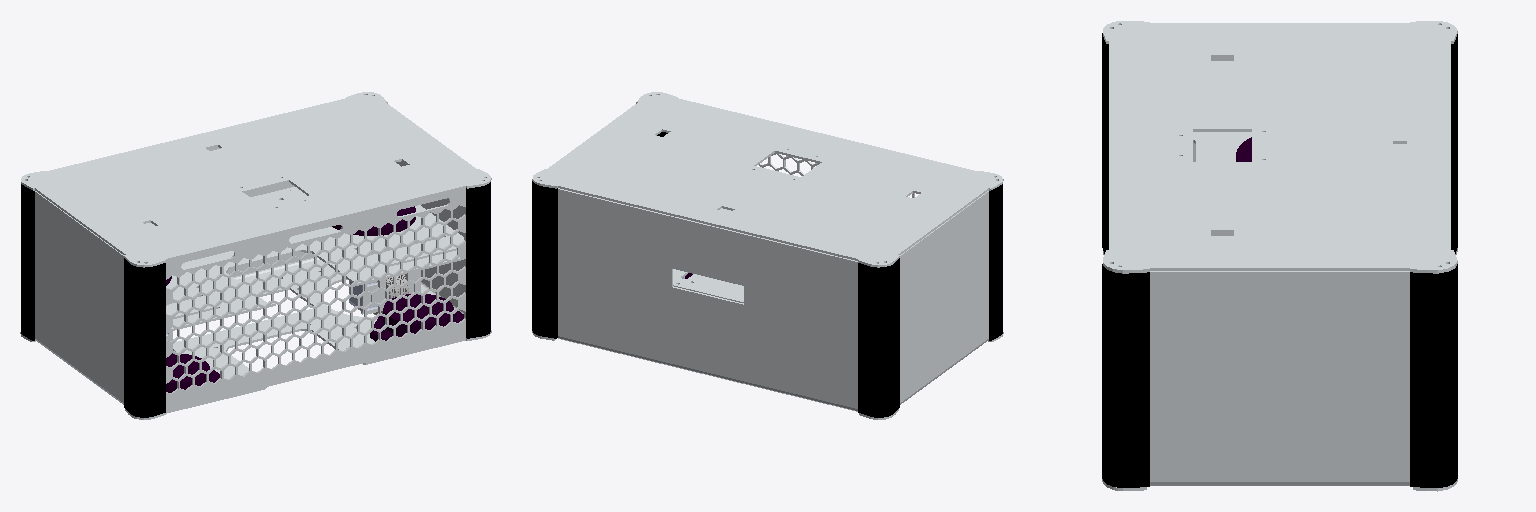
--- Facts derived from the render (not from the file) ---
Views: 3 orthographic renders of the robot side by side, from view 1: azimuth 30°, elevation 25°; view 2: azimuth 150°, elevation 25°; view 3: azimuth 270°, elevation 25°.
Robot: urdf — 29 links, 28 joints (4 revolute, 4 continuous, 20 fixed); root link base_link; default pose: every joint at zero.
Visible links, largest first — view 1: top_plate_link, back_plate_link, base_link, mid_plate_link, fixor_back_left_link, fixor_back_right_link, fixor_top_left_link, caster_wheel_right_chassis_link, caster_wheel_left_chassis_link, motor_chasiss_right_link, dunno_right_link; view 2: base_link, top_plate_link, fixor_top_left_link, fixor_top_right_link, fixor_back_left_link, mid_plate_link; view 3: top_plate_link, base_link, fixor_back_right_link, fixor_top_right_link, mid_plate_link, fixor_back_left_link, fixor_top_left_link.
Boxes of the visible links, x1,y1,x2,y2 form: top_plate_link: (21, 92, 491, 267); back_plate_link: (166, 188, 465, 410); base_link: (20, 147, 491, 419); mid_plate_link: (146, 187, 463, 331); fixor_back_left_link: (124, 258, 165, 417); fixor_back_right_link: (466, 182, 490, 338); fixor_top_left_link: (21, 184, 34, 340); caster_wheel_right_chassis_link: (370, 294, 463, 341); caster_wheel_left_chassis_link: (166, 353, 219, 392); motor_chasiss_right_link: (362, 270, 420, 314); dunno_right_link: (332, 206, 415, 235); base_link: (532, 188, 1003, 419); top_plate_link: (532, 92, 1003, 267); fixor_top_left_link: (858, 258, 899, 417); fixor_top_right_link: (532, 181, 557, 338); fixor_back_left_link: (989, 184, 1002, 340); mid_plate_link: (673, 208, 743, 302); top_plate_link: (1103, 21, 1457, 273); base_link: (1102, 58, 1457, 491); fixor_back_right_link: (1102, 264, 1149, 487); fixor_top_right_link: (1410, 264, 1457, 487); mid_plate_link: (1193, 132, 1406, 161); fixor_back_left_link: (1102, 33, 1108, 253); fixor_top_left_link: (1451, 34, 1457, 253).
Size in the robot's own frame: 0.5 by 0.3 by 0.2215 metres.
Meshes: 29 distinct files referenced, 28 mesh visuals loaded (28 binary STL); not drawn: 1 (reference not matched to a file when rendering).

robot.urdf — urdf:
<?xml version="1.0" encoding="utf-8"?>
<!-- This URDF was automatically created by SolidWorks to URDF Exporter! Originally created by Stephen Brawner ([email redacted]) 
     Commit Version: 1.6.0-4-g7f85cfe  Build Version: 1.6.7995.38578
     For more information, please see http://wiki.ros.org/sw_urdf_exporter -->
<robot
  name="urdf">
  <link
    name="base_link">
    <inertial>
      <origin
        xyz="0.00846772471037409 0.0484690867101083 -0.03567044294992"
        rpy="0 0 0" />
      <mass
        value="2.18791638334654" />
      <inertia
        ixx="0.0291212751561935"
        ixy="-2.11870933770062E-06"
        ixz="1.80015877159372E-05"
        iyy="0.0857689541865674"
        iyz="-0.00258322924751672"
        izz="0.0954185860191171" />
    </inertial>
    <visual>
      <origin
        xyz="0 0 0"
        rpy="0 0 0" />
      <geometry>
        <mesh
          filename="package://urdf/meshes/base_link.STL" />
      </geometry>
      <material
        name="">
        <color
          rgba="0.898039215686275 0.917647058823529 0.929411764705882 1" />
      </material>
    </visual>
    <collision>
      <origin
        xyz="0 0 0"
        rpy="0 0 0" />
      <geometry>
        <mesh
          filename="package://urdf/meshes/base_link.STL" />
      </geometry>
    </collision>
  </link>
  <link
    name="back_plate_link">
    <inertial>
      <origin
        xyz="-2.08166817117217E-16 -0.00457912600874111 0"
        rpy="0 0 0" />
      <mass
        value="0.338174762191649" />
      <inertia
        ixx="0.00155060309536319"
        ixy="1.52579982064103E-18"
        ixz="2.20092133798354E-20"
        iyy="0.00737913152467543"
        iyz="-1.14631573205113E-20"
        izz="0.00892922735789533" />
    </inertial>
    <visual>
      <origin
        xyz="0 0 0"
        rpy="0 0 0" />
      <geometry>
        <mesh
          filename="package://urdf/meshes/back_plate_link.STL" />
      </geometry>
      <material
        name="">
        <color
          rgba="0.898039215686275 0.917647058823529 0.929411764705882 1" />
      </material>
    </visual>
    <collision>
      <origin
        xyz="0 0 0"
        rpy="0 0 0" />
      <geometry>
        <mesh
          filename="package://urdf/meshes/back_plate_link.STL" />
      </geometry>
    </collision>
  </link>
  <joint
    name="back_plate_joint"
    type="fixed">
    <origin
      xyz="0.00835279108667919 -0.143960536689433 -0.00575724980224864"
      rpy="1.5707963267949 0 0" />
    <parent
      link="base_link" />
    <child
      link="back_plate_link" />
    <axis
      xyz="0 0 0" />
  </joint>
  <link
    name="fixor_top_left_link">
    <inertial>
      <origin
        xyz="-0.0045268734633552 0.0934899219881039 -0.264526557645859"
        rpy="0 0 0" />
      <mass
        value="0.170127773302122" />
      <inertia
        ixx="0.000573340433742727"
        ixy="6.87456187899923E-06"
        ixz="7.47281195431743E-06"
        iyy="3.14349021887756E-05"
        iyz="6.87431476230744E-06"
        izz="0.000573339610546684" />
    </inertial>
    <visual>
      <origin
        xyz="0 0 0"
        rpy="0 0 0" />
      <geometry>
        <mesh
          filename="package://urdf/meshes/fixor_top_left_link.STL" />
      </geometry>
      <material
        name="">
        <color
          rgba="0 0 0 1" />
      </material>
    </visual>
    <collision>
      <origin
        xyz="0 0 0"
        rpy="0 0 0" />
      <geometry>
        <mesh
          filename="package://urdf/meshes/fixor_top_left_link.STL" />
      </geometry>
    </collision>
  </link>
  <joint
    name="fixor_top_left_joint"
    type="fixed">
    <origin
      xyz="-0.221647208913322 -0.130960536689432 -0.105757249802249"
      rpy="1.5707963267949 0 0" />
    <parent
      link="base_link" />
    <child
      link="fixor_top_left_link" />
    <axis
      xyz="0 0 0" />
  </joint>
  <link
    name="fixor_back_left_link">
    <inertial>
      <origin
        xyz="-0.0045268734633552 0.0934899219881039 0.00452655764586138"
        rpy="0 0 0" />
      <mass
        value="0.170127773302122" />
      <inertia
        ixx="0.000573340433742727"
        ixy="6.87456187899922E-06"
        ixz="-7.47281195431743E-06"
        iyy="3.14349021887756E-05"
        iyz="-6.87431476230745E-06"
        izz="0.000573339610546684" />
    </inertial>
    <visual>
      <origin
        xyz="0 0 0"
        rpy="0 0 0" />
      <geometry>
        <mesh
          filename="package://urdf/meshes/fixor_back_left_link.STL" />
      </geometry>
      <material
        name="">
        <color
          rgba="0 0 0 1" />
      </material>
    </visual>
    <collision>
      <origin
        xyz="0 0 0"
        rpy="0 0 0" />
      <geometry>
        <mesh
          filename="package://urdf/meshes/fixor_back_left_link.STL" />
      </geometry>
    </collision>
  </link>
  <joint
    name="fixor_back_left_joint"
    type="fixed">
    <origin
      xyz="-0.221647208913322 -0.130960536689432 -0.105757249802249"
      rpy="1.5707963267949 0 0" />
    <parent
      link="base_link" />
    <child
      link="fixor_back_left_link" />
    <axis
      xyz="0 0 0" />
  </joint>
  <link
    name="fixor_top_right_link">
    <inertial>
      <origin
        xyz="-0.00452687346335517 0.0934899219881039 0.00452655764586138"
        rpy="0 0 0" />
      <mass
        value="0.170127773302122" />
      <inertia
        ixx="0.000573340433742726"
        ixy="6.87456187899921E-06"
        ixz="-7.47281195431741E-06"
        iyy="3.14349021887756E-05"
        iyz="-6.87431476230745E-06"
        izz="0.000573339610546684" />
    </inertial>
    <visual>
      <origin
        xyz="0 0 0"
        rpy="0 0 0" />
      <geometry>
        <mesh
          filename="package://urdf/meshes/fixor_top_right_link.STL" />
      </geometry>
      <material
        name="">
        <color
          rgba="0 0 0 1" />
      </material>
    </visual>
    <collision>
      <origin
        xyz="0 0 0"
        rpy="0 0 0" />
      <geometry>
        <mesh
          filename="package://urdf/meshes/fixor_top_right_link.STL" />
      </geometry>
    </collision>
  </link>
  <joint
    name="fixor_top_right_joint"
    type="fixed">
    <origin
      xyz="0.23835279108668 0.129039463310565 -0.105757249802249"
      rpy="1.5707963267949 0 3.14159265358979" />
    <parent
      link="base_link" />
    <child
      link="fixor_top_right_link" />
    <axis
      xyz="0 0 0" />
  </joint>
  <link
    name="fixor_back_right_link">
    <inertial>
      <origin
        xyz="-0.00452687346335517 0.0934899219881039 -0.00452655764586138"
        rpy="0 0 0" />
      <mass
        value="0.170127773302122" />
      <inertia
        ixx="0.000573340433742727"
        ixy="6.87456187899922E-06"
        ixz="7.47281195431742E-06"
        iyy="3.14349021887756E-05"
        iyz="6.87431476230746E-06"
        izz="0.000573339610546684" />
    </inertial>
    <visual>
      <origin
        xyz="0 0 0"
        rpy="0 0 0" />
      <geometry>
        <mesh
          filename="package://urdf/meshes/fixor_back_right_link.STL" />
      </geometry>
      <material
        name="">
        <color
          rgba="0 0 0 1" />
      </material>
    </visual>
    <collision>
      <origin
        xyz="0 0 0"
        rpy="0 0 0" />
      <geometry>
        <mesh
          filename="package://urdf/meshes/fixor_back_right_link.STL" />
      </geometry>
    </collision>
  </link>
  <joint
    name="fixor_back_right_joint"
    type="fixed">
    <origin
      xyz="0.23835279108668 -0.130960536689432 -0.105757249802249"
      rpy="1.5707963267949 0 3.14159265358979" />
    <parent
      link="base_link" />
    <child
      link="fixor_back_right_link" />
    <axis
      xyz="0 0 0" />
  </joint>
  <link
    name="mid_plate_link">
    <inertial>
      <origin
        xyz="-0.00164538615385987 -0.00225724980224867 -0.00911338234070611"
        rpy="0 0 0" />
      <mass
        value="0.885692876152529" />
      <inertia
        ixx="0.0055851569663054"
        ixy="-1.74392893865627E-21"
        ixz="-1.15382551210891E-07"
        iyy="0.0238956856714344"
        iyz="4.93507661793824E-21"
        izz="0.0183118572444433" />
    </inertial>
    <visual>
      <origin
        xyz="0 0 0"
        rpy="0 0 0" />
      <geometry>
        <mesh
          filename="package://urdf/meshes/mid_plate_link.STL" />
      </geometry>
      <material
        name="">
        <color
          rgba="0.898039215686275 0.917647058823529 0.929411764705882 1" />
      </material>
    </visual>
    <collision>
      <origin
        xyz="0 0 0"
        rpy="0 0 0" />
      <geometry>
        <mesh
          filename="package://urdf/meshes/mid_plate_link.STL" />
      </geometry>
    </collision>
  </link>
  <joint
    name="mid_plate_joint"
    type="fixed">
    <origin
      xyz="0.01 0 0"
      rpy="1.5707963267949 0 0" />
    <parent
      link="base_link" />
    <child
      link="mid_plate_link" />
    <axis
      xyz="0 0 0" />
  </joint>
  <link
    name="dunno_left_link">
    <inertial>
      <origin
        xyz="8.32667268468867E-17 0.00506144799893879 -0.000241807167000199"
        rpy="0 0 0" />
      <mass
        value="0.104682816808477" />
      <inertia
        ixx="8.34861768211577E-05"
        ixy="3.71477040033479E-22"
        ixz="1.38410933682922E-20"
        iyy="0.00016641673788092"
        iyz="-1.85325542540548E-08"
        izz="8.47038245553949E-05" />
    </inertial>
    <visual>
      <origin
        xyz="0 0 0"
        rpy="0 0 0" />
      <geometry>
        <mesh
          filename="package://urdf/meshes/dunno_left_link.STL" />
      </geometry>
      <material
        name="">
        <color
          rgba="0.196078431372549 0 0.196078431372549 1" />
      </material>
    </visual>
    <collision>
      <origin
        xyz="0 0 0"
        rpy="0 0 0" />
      <geometry>
        <mesh
          filename="package://urdf/meshes/dunno_left_link.STL" />
      </geometry>
    </collision>
  </link>
  <joint
    name="dunno_left_joint"
    type="fixed">
    <origin
      xyz="-0.171647208913322 -0.000757249802248674 -0.0161799664624075"
      rpy="0 0 0" />
    <parent
      link="mid_plate_link" />
    <child
      link="dunno_left_link" />
    <axis
      xyz="0 0 0" />
  </joint>
  <link
    name="dunno2_left_link">
    <inertial>
      <origin
        xyz="-1.11022302462516E-16 -0.00741844415061881 4.16333634234434E-17"
        rpy="0 0 0" />
      <mass
        value="0.108723964070417" />
      <inertia
        ixx="8.49055002057129E-05"
        ixy="-7.04107851841703E-23"
        ixz="4.2351647362715E-22"
        iyy="0.000167970170747351"
        iyz="2.81927787305982E-22"
        izz="8.49055002057129E-05" />
    </inertial>
    <visual>
      <origin
        xyz="0 0 0"
        rpy="0 0 0" />
      <geometry>
        <mesh
          filename="package://urdf/meshes/dunno2_left_link.STL" />
      </geometry>
      <material
        name="">
        <color
          rgba="0.501960784313725 0 0.501960784313725 1" />
      </material>
    </visual>
    <collision>
      <origin
        xyz="0 0 0"
        rpy="0 0 0" />
      <geometry>
        <mesh
          filename="package://urdf/meshes/dunno2_left_link.STL" />
      </geometry>
    </collision>
  </link>
  <joint
    name="dunno2_left_joint"
    type="revolute">
    <origin
      xyz="0 -0.00342 0"
      rpy="0 -0.021547 0" />
    <parent
      link="dunno_left_link" />
    <child
      link="dunno2_left_link" />
    <axis
      xyz="0 1 0" />
    <limit
      lower="0"
      upper="6.283"
      effort="0"
      velocity="0" />
  </joint>
  <link
    name="motor_chasiss_left_link">
    <inertial>
      <origin
        xyz="-0.0128848549293891 -0.0269711955666296 0.0211552665578679"
        rpy="0 0 0" />
      <mass
        value="0.122322077396445" />
      <inertia
        ixx="0.000164362561825281"
        ixy="-2.4570887720361E-05"
        ixz="-6.00279172604827E-06"
        iyy="0.000169274602144088"
        iyz="3.0605936793252E-05"
        izz="0.000191947787654957" />
    </inertial>
    <visual>
      <origin
        xyz="0 0 0"
        rpy="0 0 0" />
      <geometry>
        <mesh
          filename="package://urdf/meshes/motor_chasiss_left_link.STL" />
      </geometry>
      <material
        name="">
        <color
          rgba="0.898039215686275 0.917647058823529 0.929411764705882 1" />
      </material>
    </visual>
    <collision>
      <origin
        xyz="0 0 0"
        rpy="0 0 0" />
      <geometry>
        <mesh
          filename="package://urdf/meshes/motor_chasiss_left_link.STL" />
      </geometry>
    </collision>
  </link>
  <joint
    name="motor_chasiss_left_joint"
    type="fixed">
    <origin
      xyz="0 -0.0123 0"
      rpy="0 0 0" />
    <parent
      link="dunno2_left_link" />
    <child
      link="motor_chasiss_left_link" />
    <axis
      xyz="0 0 0" />
  </joint>
  <link
    name="jgy370_left_bracket_link">
    <inertial>
      <origin
        xyz="0.00799101681086403 1.20351272847319E-05 0.0079534366911595"
        rpy="0 0 0" />
      <mass
        value="0.00763740740798211" />
      <inertia
        ixx="2.52343549283644E-06"
        ixy="5.96635897504527E-10"
        ixz="-4.73266483438878E-07"
        iyy="1.77735707033072E-06"
        iyz="1.00680890550849E-09"
        izz="2.02485589053552E-06" />
    </inertial>
    <visual>
      <origin
        xyz="0 0 0"
        rpy="0 0 0" />
      <geometry>
        <mesh
          filename="package://urdf/meshes/jgy370_left_bracket_link.STL" />
      </geometry>
      <material
        name="">
        <color
          rgba="0.792156862745098 0.819607843137255 0.933333333333333 1" />
      </material>
    </visual>
    <collision>
      <origin
        xyz="0 0 0"
        rpy="0 0 0" />
      <geometry>
        <mesh
          filename="package://urdf/meshes/jgy370_left_bracket_link.STL" />
      </geometry>
    </collision>
  </link>
  <joint
    name="jgy370_left_bracket_joint"
    type="fixed">
    <origin
      xyz="0.0084 -0.065191 0.02314"
      rpy="0 0 0" />
    <parent
      link="motor_chasiss_left_link" />
    <child
      link="jgy370_left_bracket_link" />
    <axis
      xyz="0 0 0" />
  </joint>
  <link
    name="jgy370_left_motor_link">
    <inertial>
      <origin
        xyz="-0.0196305360935168 -0.000889548351063216 -0.0114448584996521"
        rpy="0 0 0" />
      <mass
        value="0.0469553009579176" />
      <inertia
        ixx="5.27476143860159E-06"
        ixy="-1.11213181840589E-06"
        ixz="-1.04038277110407E-06"
        iyy="2.28540478207139E-05"
        iyz="-7.47629223425561E-08"
        izz="2.39569333211707E-05" />
    </inertial>
    <visual>
      <origin
        xyz="0 0 0"
        rpy="0 0 0" />
      <geometry>
        <mesh
          filename="package://urdf/meshes/jgy370_left_motor_link.STL" />
      </geometry>
      <material
        name="">
        <color
          rgba="0.792156862745098 0.819607843137255 0.933333333333333 1" />
      </material>
    </visual>
    <collision>
      <origin
        xyz="0 0 0"
        rpy="0 0 0" />
      <geometry>
        <mesh
          filename="package://urdf/meshes/jgy370_left_motor_link.STL" />
      </geometry>
    </collision>
  </link>
  <joint
    name="jgy370_left_motor_joint"
    type="fixed">
    <origin
      xyz="0.0045 -0.0085836 -0.003"
      rpy="1.5708 0 -1.5708" />
    <parent
      link="jgy370_left_bracket_link" />
    <child
      link="jgy370_left_motor_link" />
    <axis
      xyz="0 0 0" />
  </joint>
  <link
    name="left_wheel_link">
    <inertial>
      <origin
        xyz="0.0216100813832755 3.41569242508222E-11 1.1758732876288E-10"
        rpy="0 0 0" />
      <mass
        value="0.0351746986250551" />
      <inertia
        ixx="2.57857822066137E-05"
        ixy="-3.36042513749521E-14"
        ixz="-1.78217587898553E-14"
        iyy="1.52369212431957E-05"
        iyz="-4.72653838789774E-10"
        izz="1.5237227860926E-05" />
    </inertial>
    <visual>
      <origin
        xyz="0 0 0"
        rpy="0 0 0" />
      <geometry>
        <mesh
          filename="package://urdf/meshes/left_wheel_link.STL" />
      </geometry>
      <material
        name="">
        <color
          rgba="0.752941176470588 0.752941176470588 0.752941176470588 1" />
      </material>
    </visual>
    <collision>
      <origin
        xyz="0 0 0"
        rpy="0 0 0" />
      <geometry>
        <mesh
          filename="package://urdf/meshes/left_wheel_link.STL" />
      </geometry>
    </collision>
  </link>
  <joint
    name="left_wheel_joint"
    type="continuous">
    <origin
      xyz="0 0 0"
      rpy="-1.5735 -1.5708 -1.4454" />
    <parent
      link="jgy370_left_motor_link" />
    <child
      link="left_wheel_link" />
    <axis
      xyz="1 0 0" />
  </joint>
  <link
    name="dunno_right_link">
    <inertial>
      <origin
        xyz="2.4980018054066E-16 0.00506144799893879 0.000241807167000188"
        rpy="0 0 0" />
      <mass
        value="0.104682816808477" />
      <inertia
        ixx="8.34861768211577E-05"
        ixy="3.90425541888825E-22"
        ixz="-1.42470528394582E-20"
        iyy="0.00016641673788092"
        iyz="1.85325542540547E-08"
        izz="8.47038245553948E-05" />
    </inertial>
    <visual>
      <origin
        xyz="0 0 0"
        rpy="0 0 0" />
      <geometry>
        <mesh
          filename="package://urdf/meshes/dunno_right_link.STL" />
      </geometry>
      <material
        name="">
        <color
          rgba="0.196078431372549 0 0.196078431372549 1" />
      </material>
    </visual>
    <collision>
      <origin
        xyz="0 0 0"
        rpy="0 0 0" />
      <geometry>
        <mesh
          filename="package://urdf/meshes/dunno_right_link.STL" />
      </geometry>
    </collision>
  </link>
  <joint
    name="dunno_right_joint"
    type="fixed">
    <origin
      xyz="0.168352791086678 -0.000757249802248674 -0.0161799664624084"
      rpy="3.14159265358979 0 3.14159265358979" />
    <parent
      link="mid_plate_link" />
    <child
      link="dunno_right_link" />
    <axis
      xyz="0 0 0" />
  </joint>
  <link
    name="dunno2_right_link">
    <inertial>
      <origin
        xyz="8.32667268468867E-17 -0.00741844415061881 5.72458747072346E-17"
        rpy="0 0 0" />
      <mass
        value="0.108723964070417" />
      <inertia
        ixx="8.49055002057129E-05"
        ixy="5.28694922601241E-23"
        ixz="8.470329472543E-22"
        iyy="0.000167970170747351"
        iyz="1.59080982823498E-22"
        izz="8.49055002057129E-05" />
    </inertial>
    <visual>
      <origin
        xyz="0 0 0"
        rpy="0 0 0" />
      <geometry>
        <mesh
          filename="package://urdf/meshes/dunno2_right_link.STL" />
      </geometry>
      <material
        name="">
        <color
          rgba="0.501960784313725 0 0.501960784313725 1" />
      </material>
    </visual>
    <collision>
      <origin
        xyz="0 0 0"
        rpy="0 0 0" />
      <geometry>
        <mesh
          filename="package://urdf/meshes/dunno2_right_link.STL" />
      </geometry>
    </collision>
  </link>
  <joint
    name="dunno2_right_joint"
    type="revolute">
    <origin
      xyz="0 -0.00342 0"
      rpy="0 0.0215470920545182 0" />
    <parent
      link="dunno_right_link" />
    <child
      link="dunno2_right_link" />
    <axis
      xyz="0 1 0" />
    <limit
      lower="0"
      upper="6.283"
      effort="0"
      velocity="0" />
  </joint>
  <link
    name="motor_chasiss_right_link">
    <inertial>
      <origin
        xyz="-0.0128848549293888 -0.0269711955666296 -0.0211552665578673"
        rpy="0 0 0" />
      <mass
        value="0.122322077396445" />
      <inertia
        ixx="0.00016436256182528"
        ixy="-2.45708877203608E-05"
        ixz="6.00279172604831E-06"
        iyy="0.000169274602144088"
        iyz="-3.06059367932522E-05"
        izz="0.000191947787654956" />
    </inertial>
    <visual>
      <origin
        xyz="0 0 0"
        rpy="0 0 0" />
      <geometry>
        <mesh
          filename="package://urdf/meshes/motor_chasiss_right_link.STL" />
      </geometry>
      <material
        name="">
        <color
          rgba="0.898039215686275 0.917647058823529 0.929411764705882 1" />
      </material>
    </visual>
    <collision>
      <origin
        xyz="0 0 0"
        rpy="0 0 0" />
      <geometry>
        <mesh
          filename="package://urdf/meshes/motor_chasiss_right_link.STL" />
      </geometry>
    </collision>
  </link>
  <joint
    name="motor_chasiss_right_joint"
    type="fixed">
    <origin
      xyz="0 -0.0123 0"
      rpy="0 0 0" />
    <parent
      link="dunno2_right_link" />
    <child
      link="motor_chasiss_right_link" />
    <axis
      xyz="0 0 0" />
  </joint>
  <link
    name="jgy370_right_bracket_link">
    <inertial>
      <origin
        xyz="0.00799101681086409 1.20351272848429E-05 -0.00795343669115924"
        rpy="0 0 0" />
      <mass
        value="0.00763740740798211" />
      <inertia
        ixx="2.52343549283644E-06"
        ixy="5.96635897503469E-10"
        ixz="4.73266483438879E-07"
        iyy="1.77735707033072E-06"
        iyz="-1.00680890550929E-09"
        izz="2.02485589053552E-06" />
    </inertial>
    <visual>
      <origin
        xyz="0 0 0"
        rpy="0 0 0" />
      <geometry>
        <mesh
          filename="package://urdf/meshes/jgy370_right_bracket_link.STL" />
      </geometry>
      <material
        name="">
        <color
          rgba="0.792156862745098 0.819607843137255 0.933333333333333 1" />
      </material>
    </visual>
    <collision>
      <origin
        xyz="0 0 0"
        rpy="0 0 0" />
      <geometry>
        <mesh
          filename="package://urdf/meshes/jgy370_right_bracket_link.STL" />
      </geometry>
    </collision>
  </link>
  <joint
    name="jgy370_right_bracket_joint"
    type="fixed">
    <origin
      xyz="0.00840000000000035 -0.0651914165294201 -0.0231399999999998"
      rpy="0 0 0" />
    <parent
      link="motor_chasiss_right_link" />
    <child
      link="jgy370_right_bracket_link" />
    <axis
      xyz="0 0 0" />
  </joint>
  <link
    name="jgy370_right_motor_link">
    <inertial>
      <origin
        xyz="-0.01963053583548 -0.000889546651315527 0.0114448587768458"
        rpy="0 0 0" />
      <mass
        value="0.0469553018320981" />
      <inertia
        ixx="5.27476160637528E-06"
        ixy="-1.11213294039094E-06"
        ixz="1.0403826730494E-06"
        iyy="2.28540479723449E-05"
        iyz="7.47628246501351E-08"
        izz="2.39569337930076E-05" />
    </inertial>
    <visual>
      <origin
        xyz="0 0 0"
        rpy="0 0 0" />
      <geometry>
        <mesh
          filename="package://urdf/meshes/jgy370_right_motor_link.STL" />
      </geometry>
      <material
        name="">
        <color
          rgba="0.792156862745098 0.819607843137255 0.933333333333333 1" />
      </material>
    </visual>
    <collision>
      <origin
        xyz="0 0 0"
        rpy="0 0 0" />
      <geometry>
        <mesh
          filename="package://urdf/meshes/jgy370_right_motor_link.STL" />
      </geometry>
    </collision>
  </link>
  <joint
    name="jgy370_right_motor_joint"
    type="fixed">
    <origin
      xyz="0.0045000000000015 -0.00858363496335966 0.0030000000000004"
      rpy="-1.5707963267949 0 -1.57079632679488" />
    <parent
      link="jgy370_right_bracket_link" />
    <child
      link="jgy370_right_motor_link" />
    <axis
      xyz="0 0 0" />
  </joint>
  <link
    name="right_wheel_link">
    <inertial>
      <origin
        xyz="0.0181952854746237 1.74137601040292E-11 -9.97114335543614E-11"
        rpy="0 0 0" />
      <mass
        value="0.0351747320375377" />
      <inertia
        ixx="2.57858079017855E-05"
        ixy="-2.98861980030481E-14"
        ixz="1.60235805321579E-14"
        iyy="1.52369358804397E-05"
        iyz="4.7267782538747E-10"
        izz="1.52372423889528E-05" />
    </inertial>
    <visual>
      <origin
        xyz="0 0 0"
        rpy="0 0 0" />
      <geometry>
        <mesh
          filename="package://urdf/meshes/right_wheel_link.STL" />
      </geometry>
      <material
        name="">
        <color
          rgba="0.752941176470588 0.752941176470588 0.752941176470588 1" />
      </material>
    </visual>
    <collision>
      <origin
        xyz="0 0 0"
        rpy="0 0 0" />
      <geometry>
        <mesh
          filename="package://urdf/meshes/right_wheel_link.STL" />
      </geometry>
    </collision>
  </link>
  <joint
    name="right_wheel_joint"
    type="continuous">
    <origin
      xyz="0 0 -0.00341479648887261"
      rpy="3.01888613534361 1.5707963267949 0" />
    <parent
      link="jgy370_right_motor_link" />
    <child
      link="right_wheel_link" />
    <axis
      xyz="1 0 0" />
  </joint>
  <link
    name="caster_wheel_left_chassis_link">
    <inertial>
      <origin
        xyz="0 0.0221591237109398 6.93889390390723E-17"
        rpy="0 0 0" />
      <mass
        value="0.146461587822785" />
      <inertia
        ixx="9.8592021651556E-05"
        ixy="2.31400376872536E-20"
        ixz="-1.15312531681586E-20"
        iyy="0.000211841543244386"
        iyz="2.70056881482744E-21"
        izz="0.000141186868185475" />
    </inertial>
    <visual>
      <origin
        xyz="0 0 0"
        rpy="0 0 0" />
      <geometry>
        <mesh
          filename="package://urdf/meshes/caster_wheel_left_chassis_link.STL" />
      </geometry>
      <material
        name="">
        <color
          rgba="0.196078431372549 0 0.196078431372549 1" />
      </material>
    </visual>
    <collision>
      <origin
        xyz="0 0 0"
        rpy="0 0 0" />
      <geometry>
        <mesh
          filename="package://urdf/meshes/caster_wheel_left_chassis_link.STL" />
      </geometry>
    </collision>
  </link>
  <joint
    name="caster_wheel_left_joint"
    type="fixed">
    <origin
      xyz="-0.161647208913321 -0.0988200335375916 -0.111957249802249"
      rpy="1.5707963267949 0 0" />
    <parent
      link="base_link" />
    <child
      link="caster_wheel_left_chassis_link" />
    <axis
      xyz="0 0 0" />
  </joint>
  <link
    name="part2_left_link">
    <inertial>
      <origin
        xyz="-2.88721053839924E-06 0.00196932950383463 -8.66163161510058E-06"
        rpy="0 0 0" />
      <mass
        value="0.00224120615721976" />
      <inertia
        ixx="1.89927903443875E-07"
        ixy="4.5662766646317E-12"
        ixz="-4.10145299104358E-14"
        iyy="3.44093281339641E-07"
        iyz="1.3698829993904E-11"
        izz="1.57647203936253E-07" />
    </inertial>
    <visual>
      <origin
        xyz="0 0 0"
        rpy="0 0 0" />
      <geometry>
        <mesh
          filename="package://urdf/meshes/part2_left_link.STL" />
      </geometry>
      <material
        name="">
        <color
          rgba="0.792156862745098 0.819607843137255 0.933333333333333 1" />
      </material>
    </visual>
    <collision>
      <origin
        xyz="0 0 0"
        rpy="0 0 0" />
      <geometry>
        <mesh
          filename="package://urdf/meshes/part2_left_link.STL" />
      </geometry>
    </collision>
  </link>
  <joint
    name="part2_left_joint"
    type="fixed">
    <origin
      xyz="0 0.0230900000000001 0"
      rpy="0 0 0" />
    <parent
      link="caster_wheel_left_chassis_link" />
    <child
      link="part2_left_link" />
    <axis
      xyz="0 0 0" />
  </joint>
  <link
    name="part3_left_link">
    <inertial>
      <origin
        xyz="-1.32358469850935E-07 -0.00564186367389928 0.00405808918182125"
        rpy="0 0 0" />
      <mass
        value="0.00165039593390477" />
      <inertia
        ixx="1.6730961564898E-07"
        ixy="1.21622948959522E-11"
        ixz="-2.84450856531652E-11"
        iyy="2.24369157173445E-07"
        iyz="3.10241503992514E-08"
        izz="1.79235355076834E-07" />
    </inertial>
    <visual>
      <origin
        xyz="0 0 0"
        rpy="0 0 0" />
      <geometry>
        <mesh
          filename="package://urdf/meshes/part3_left_link.STL" />
      </geometry>
      <material
        name="">
        <color
          rgba="0.792156862745098 0.819607843137255 0.933333333333333 1" />
      </material>
    </visual>
    <collision>
      <origin
        xyz="0 0 0"
        rpy="0 0 0" />
      <geometry>
        <mesh
          filename="package://urdf/meshes/part3_left_link.STL" />
      </geometry>
    </collision>
  </link>
  <joint
    name="part3_left_joint"
    type="revolute">
    <origin
      xyz="0 0 0"
      rpy="0 0 0" />
    <parent
      link="part2_left_link" />
    <child
      link="part3_left_link" />
    <axis
      xyz="0 1 0" />
    <limit
      lower="0"
      upper="6.283"
      effort="0"
      velocity="0" />
  </joint>
  <link
    name="left_caster_wheel_link">
    <inertial>
      <origin
        xyz="-0.000230000000000036 -1.38777878078145E-17 -1.38777878078145E-17"
        rpy="0 0 0" />
      <mass
        value="0.0107979813338499" />
      <inertia
        ixx="1.21306823006879E-06"
        ixy="-1.50653526026339E-39"
        ixz="2.41069052585453E-25"
        iyy="7.8110154936809E-07"
        iyz="-2.92963160330296E-41"
        izz="7.8110154936809E-07" />
    </inertial>
    <visual>
      <origin
        xyz="0 0 0"
        rpy="0 0 0" />
      <geometry>
        <mesh
          filename="package://urdf/meshes/left_caster_wheel_link.STL" />
      </geometry>
      <material
        name="">
        <color
          rgba="1 0 0 1" />
      </material>
    </visual>
    <collision>
      <origin
        xyz="0 0 0"
        rpy="0 0 0" />
      <geometry>
        <mesh
          filename="package://urdf/meshes/left_caster_wheel_link.STL" />
      </geometry>
    </collision>
  </link>
  <joint
    name="left_caster_wheel_joint"
    type="continuous">
    <origin
      xyz="0 -0.01980453988 0.0122727243317851"
      rpy="0 0 0" />
    <parent
      link="part3_left_link" />
    <child
      link="left_caster_wheel_link" />
    <axis
      xyz="1 0 0" />
  </joint>
  <link
    name="caster_wheel_right_chassis_link">
    <inertial>
      <origin
        xyz="1.38777878078145E-16 0.0189591237109398 0"
        rpy="0 0 0" />
      <mass
        value="0.146461587822785" />
      <inertia
        ixx="9.85920216515561E-05"
        ixy="1.92335806841099E-20"
        ixz="1.29347944907279E-21"
        iyy="0.000211841543244386"
        iyz="5.36241257892295E-22"
        izz="0.000141186868185475" />
    </inertial>
    <visual>
      <origin
        xyz="0 0 0"
        rpy="0 0 0" />
      <geometry>
        <mesh
          filename="package://urdf/meshes/caster_wheel_right_chassis_link.STL" />
      </geometry>
      <material
        name="">
        <color
          rgba="0.196078431372549 0 0.196078431372549 1" />
      </material>
    </visual>
    <collision>
      <origin
        xyz="0 0 0"
        rpy="0 0 0" />
      <geometry>
        <mesh
          filename="package://urdf/meshes/caster_wheel_right_chassis_link.STL" />
      </geometry>
    </collision>
  </link>
  <joint
    name="caster_wheel_right_chassis_joint"
    type="fixed">
    <origin
      xyz="0.178352791086677 -0.0988200335375916 -0.108757249802249"
      rpy="1.5707963267949 0 3.14159265358979" />
    <parent
      link="base_link" />
    <child
      link="caster_wheel_right_chassis_link" />
    <axis
      xyz="0 0 0" />
  </joint>
  <link
    name="part2_right_link">
    <inertial>
      <origin
        xyz="-2.88721053826047E-06 0.00196932950383463 8.66163161518385E-06"
        rpy="0 0 0" />
      <mass
        value="0.00224120615721976" />
      <inertia
        ixx="1.89927903443875E-07"
        ixy="4.56627666463197E-12"
        ixz="4.10145299088208E-14"
        iyy="3.44093281339641E-07"
        iyz="-1.36988299939037E-11"
        izz="1.57647203936253E-07" />
    </inertial>
    <visual>
      <origin
        xyz="0 0 0"
        rpy="0 0 0" />
      <geometry>
        <mesh
          filename="package://urdf/meshes/part2_right_link.STL" />
      </geometry>
      <material
        name="">
        <color
          rgba="0.792156862745098 0.819607843137255 0.933333333333333 1" />
      </material>
    </visual>
    <collision>
      <origin
        xyz="0 0 0"
        rpy="0 0 0" />
      <geometry>
        <mesh
          filename="package://urdf/meshes/part2_right_link.STL" />
      </geometry>
    </collision>
  </link>
  <joint
    name="part2_right_joint"
    type="fixed">
    <origin
      xyz="0 0.01989 0"
      rpy="0 0 0" />
    <parent
      link="caster_wheel_right_chassis_link" />
    <child
      link="part2_right_link" />
    <axis
      xyz="0 0 0" />
  </joint>
  <link
    name="part3_right_link">
    <inertial>
      <origin
        xyz="1.32358470017468E-07 -0.00564186367389925 -0.00405808918182121"
        rpy="0 0 0" />
      <mass
        value="0.00165039593390477" />
      <inertia
        ixx="1.6730961564898E-07"
        ixy="-1.21622948951581E-11"
        ixz="-2.84450856539066E-11"
        iyy="2.24369157173445E-07"
        iyz="-3.10241503992519E-08"
        izz="1.79235355076833E-07" />
    </inertial>
    <visual>
      <origin
        xyz="0 0 0"
        rpy="0 0 0" />
      <geometry>
        <mesh
          filename="package://urdf/meshes/part3_right_link.STL" />
      </geometry>
      <material
        name="">
        <color
          rgba="0.792156862745098 0.819607843137255 0.933333333333333 1" />
      </material>
    </visual>
    <collision>
      <origin
        xyz="0 0 0"
        rpy="0 0 0" />
      <geometry>
        <mesh
          filename="package://urdf/meshes/part3_right_link.STL" />
      </geometry>
    </collision>
  </link>
  <joint
    name="part3_right_joint"
    type="revolute">
    <origin
      xyz="0 0 0"
      rpy="0 0 0" />
    <parent
      link="part2_right_link" />
    <child
      link="part3_right_link" />
    <axis
      xyz="0 1 0" />
    <limit
      lower="0"
      upper="6.283"
      effort="0"
      velocity="0" />
  </joint>
  <link
    name="right_caster_wheel_link">
    <inertial>
      <origin
        xyz="-0.00022999999999998 0 5.55111512312578E-17"
        rpy="0 0 0" />
      <mass
        value="0.0107979813338499" />
      <inertia
        ixx="1.21306823006879E-06"
        ixy="1.50653526026339E-39"
        ixz="-2.41069052585372E-25"
        iyy="7.8110154936809E-07"
        iyz="-2.92963160330252E-41"
        izz="7.8110154936809E-07" />
    </inertial>
    <visual>
      <origin
        xyz="0 0 0"
        rpy="0 0 0" />
      <geometry>
        <mesh
          filename="package://urdf/meshes/right_caster_wheel_link.STL" />
      </geometry>
      <material
        name="">
        <color
          rgba="1 0 0 1" />
      </material>
    </visual>
    <collision>
      <origin
        xyz="0 0 0"
        rpy="0 0 0" />
      <geometry>
        <mesh
          filename="package://urdf/meshes/right_caster_wheel_link.STL" />
      </geometry>
    </collision>
  </link>
  <joint
    name="right_caster_wheel_joint"
    type="continuous">
    <origin
      xyz="0 -0.01980453988 -0.0122727243317851"
      rpy="0 0 0" />
    <parent
      link="part3_right_link" />
    <child
      link="right_caster_wheel_link" />
    <axis
      xyz="1 0 0" />
  </joint>
  <link
    name="top_plate_link">
    <inertial>
      <origin
        xyz="3.98986399474666E-17 0.00149999999999999 -0.00115892116040598"
        rpy="0 0 0" />
      <mass
        value="1.1202254008004" />
      <inertia
        ixx="0.00801663456473379"
        ixy="1.28373577283668E-20"
        ixz="-1.49937140105413E-18"
        iyy="0.0311441206217143"
        iyz="-3.31479919783603E-21"
        izz="0.0231291663950817" />
    </inertial>
    <visual>
      <origin
        xyz="0 0 0"
        rpy="0 0 0" />
      <geometry>
        <mesh
          filename="package://urdf/meshes/top_plate_link.STL" />
      </geometry>
      <material
        name="">
        <color
          rgba="0.898039215686275 0.917647058823529 0.929411764705882 1" />
      </material>
    </visual>
    <collision>
      <origin
        xyz="0 0 0"
        rpy="0 0 0" />
      <geometry>
        <mesh
          filename="package://urdf/meshes/top_plate_link.STL" />
      </geometry>
    </collision>
  </link>
  <joint
    name="top_plate_joint"
    type="fixed">
    <origin
      xyz="0.0083528 -0.00096054 0.094243"
      rpy="1.5708 0 0" />
    <parent
      link="base_link" />
    <child
      link="top_plate_link" />
    <axis
      xyz="0 0 0" />
  </joint>
  <link
    name="rp_lidar_a1_link">
    <inertial>
      <origin
        xyz="-0.0784929259777178 0.744427366455819 0.13345045586875"
        rpy="0 0 0" />
      <mass
        value="0.0730825341704335" />
      <inertia
        ixx="1.95802659417523E-05"
        ixy="-4.28335826784664E-07"
        ixz="1.04040720993425E-07"
        iyy="4.14186231878389E-05"
        iyz="-9.38851142336248E-09"
        izz="2.41258514379279E-05" />
    </inertial>
    <visual>
      <origin
        xyz="0 0 0"
        rpy="0 0 0" />
      <geometry>
        <mesh
          filename="package://urdf/meshes/rp_lidar_a1_link.STL" />
      </geometry>
      <material
        name="">
        <color
          rgba="0.752941176470588 0.752941176470588 0.752941176470588 1" />
      </material>
    </visual>
    <collision>
      <origin
        xyz="0 0 0"
        rpy="0 0 0" />
      <geometry>
        <mesh
          filename="package://urdf/meshes/rp_lidar_a1_link.STL" />
      </geometry>
    </collision>
  </link>
  <joint
    name="rp_lidar_a1_joint"
    type="fixed">
    <origin
      xyz="0.1303 -0.71669 0.13725"
      rpy="3.1416 -1.5207 3.1416" />
    <parent
      link="top_plate_link" />
    <child
      link="rp_lidar_a1_link" />
    <axis
      xyz="0 0 0" />
  </joint>
</robot>
